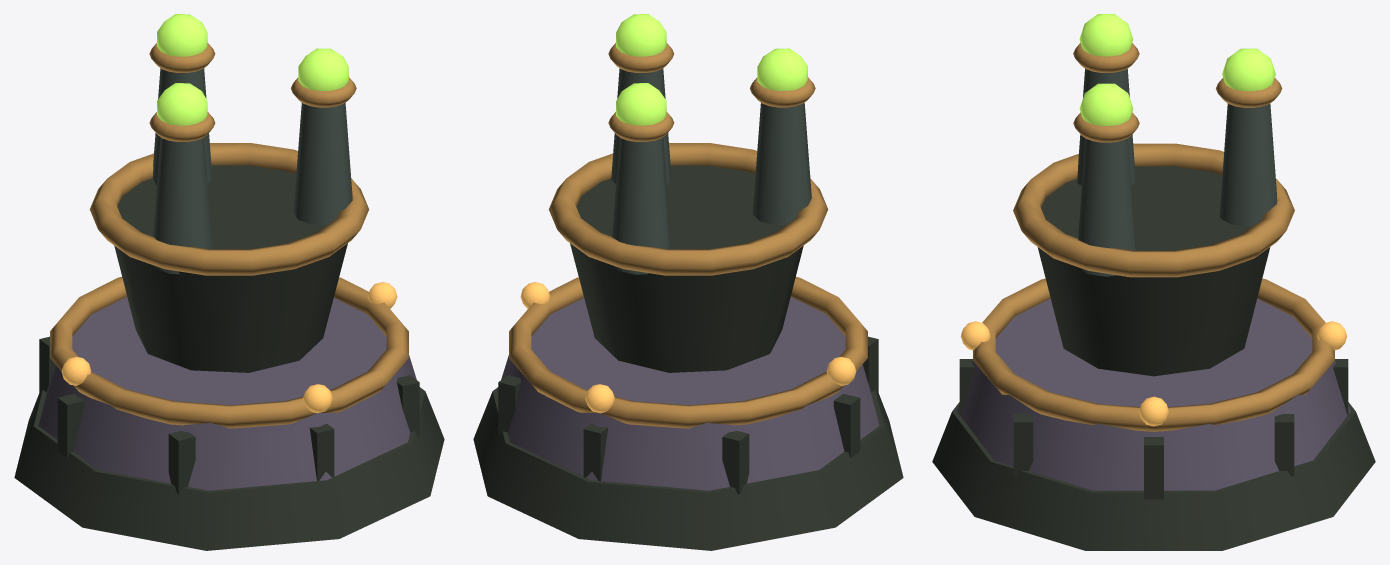
The model's file is tower_poison_poisonCauldron.glb.
The picture shows the model from 3 angles, left to right: view 1: azimuth 30°, elevation 25°; view 2: azimuth 150°, elevation 25°; view 3: azimuth 270°, elevation 25°; orthographic projection.
Parts seen in each view (by area): view 1: stone_1, vessel_15, foot_0, rim_2, vessel_lip_17, chimney_21, chimney_24, spore_26, spore_20, spore_23, mortar_6, mortar_7 (+10 smaller); view 2: stone_1, vessel_15, foot_0, rim_2, vessel_lip_17, chimney_24, chimney_18, spore_20, spore_26, spore_23, mortar_8, mortar_7 (+10 smaller); view 3: stone_1, vessel_15, foot_0, rim_2, vessel_lip_17, chimney_18, chimney_21, spore_20, spore_23, spore_26, chimney_24, mortar_3 (+10 smaller).
Boxes of the visible parts, <box> form: stone_1: <box>38,297,420,490</box>; vessel_15: <box>114,165,347,372</box>; foot_0: <box>14,387,444,550</box>; rim_2: <box>50,276,408,428</box>; vessel_lip_17: <box>89,143,369,275</box>; chimney_21: <box>293,103,352,225</box>; chimney_24: <box>153,137,212,274</box>; spore_26: <box>157,83,207,125</box>; spore_20: <box>157,14,207,56</box>; spore_23: <box>298,48,348,90</box>; mortar_6: <box>168,431,195,494</box>; mortar_7: <box>57,393,84,458</box>; stone_1: <box>497,297,879,490</box>; vessel_15: <box>570,165,803,372</box>; foot_0: <box>473,387,903,550</box>; rim_2: <box>509,276,867,428</box>; vessel_lip_17: <box>548,143,828,275</box>; chimney_24: <box>752,103,811,225</box>; chimney_18: <box>612,137,671,274</box>; spore_20: <box>616,83,666,125</box>; spore_26: <box>757,48,807,90</box>; spore_23: <box>616,14,666,56</box>; mortar_8: <box>722,431,749,494</box>; mortar_7: <box>833,393,860,458</box>; stone_1: <box>957,298,1350,490</box>; vessel_15: <box>1037,166,1270,376</box>; foot_0: <box>932,402,1375,550</box>; rim_2: <box>973,278,1334,431</box>; vessel_lip_17: <box>1013,143,1294,277</box>; chimney_18: <box>1220,103,1277,226</box>; chimney_21: <box>1078,138,1135,276</box>; spore_20: <box>1222,48,1275,91</box>; spore_23: <box>1079,83,1133,125</box>; spore_26: <box>1079,14,1133,56</box>; chimney_24: <box>1077,69,1135,185</box>; mortar_3: <box>1144,437,1163,499</box>.
Bounding box in the file's own units: 0.5326 × 0.574 × 0.56.
